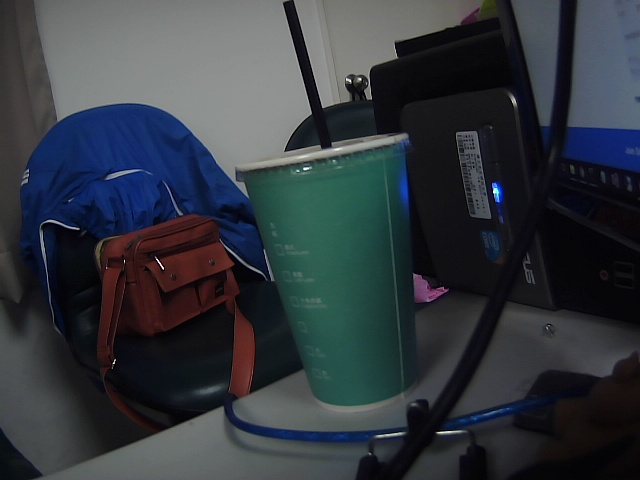beverage: (204, 2, 460, 410)
